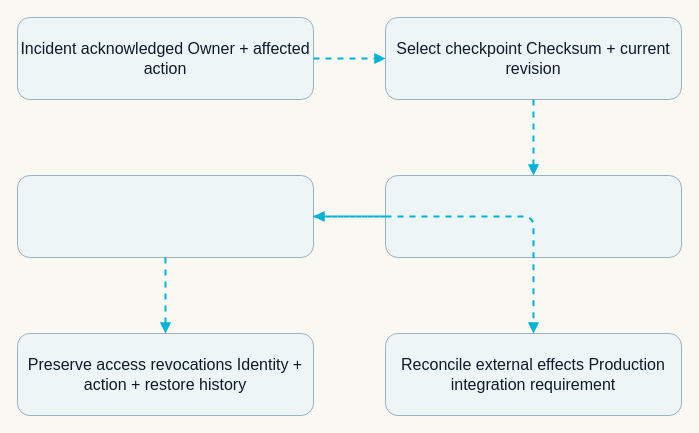
Some shapes in this 699 by 433 pixel diagram are drawn without their labels. The shapes that lost their labels are listed below. From the top down, each one's box as (x1, y1, x2, y2) in pixels, then its label:
(16, 174, 314, 258): Restore synthetic records Stop background worker
(384, 174, 682, 258): Validate restoration Explicit confirmation
